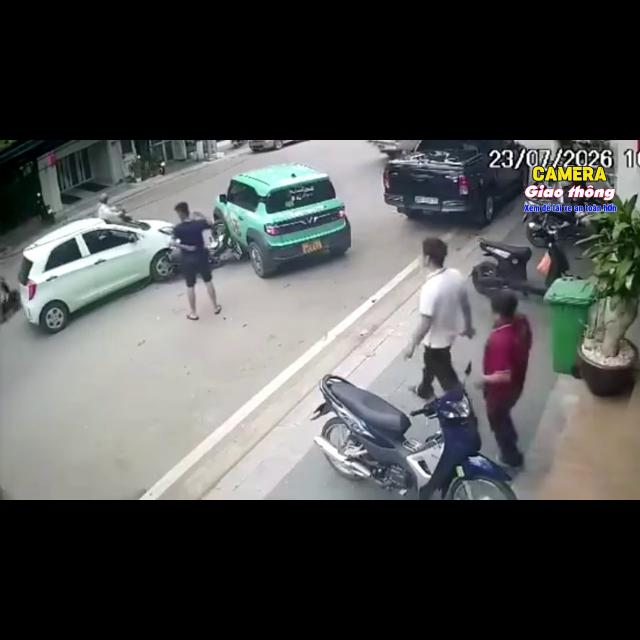car: (18, 218, 172, 332), (213, 163, 351, 277), (383, 140, 529, 224), (249, 140, 304, 151)
motorcycle: (312, 375, 516, 499), (471, 220, 570, 295), (523, 211, 592, 247), (207, 222, 228, 269), (0, 277, 20, 323), (232, 140, 247, 148)
